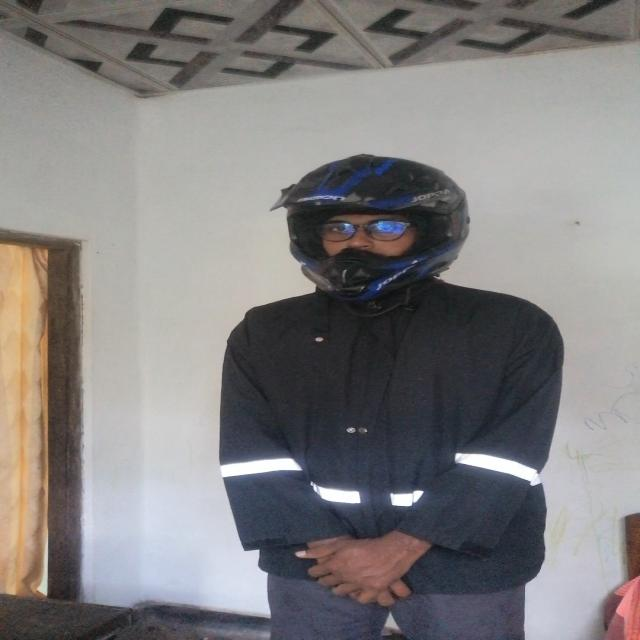Helmet_Wearer: (259, 145, 483, 313)
Jacket_Wearer: (218, 273, 556, 589)
Person: (213, 165, 554, 640)
